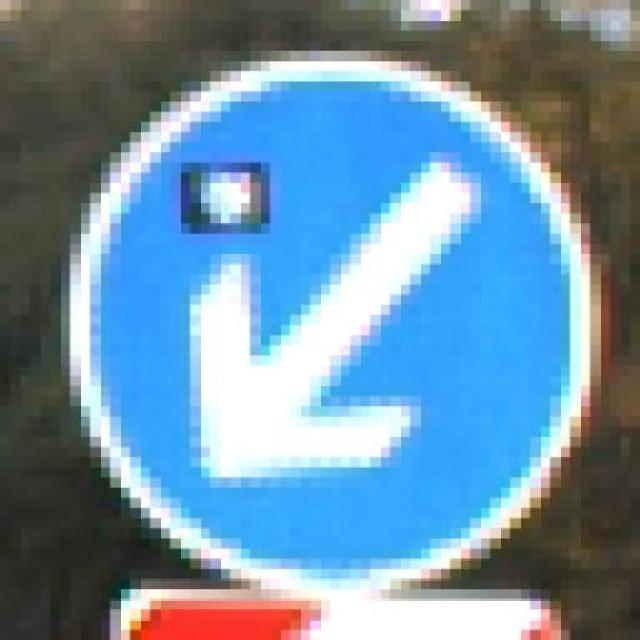Keep-Left: (70, 51, 630, 609)
